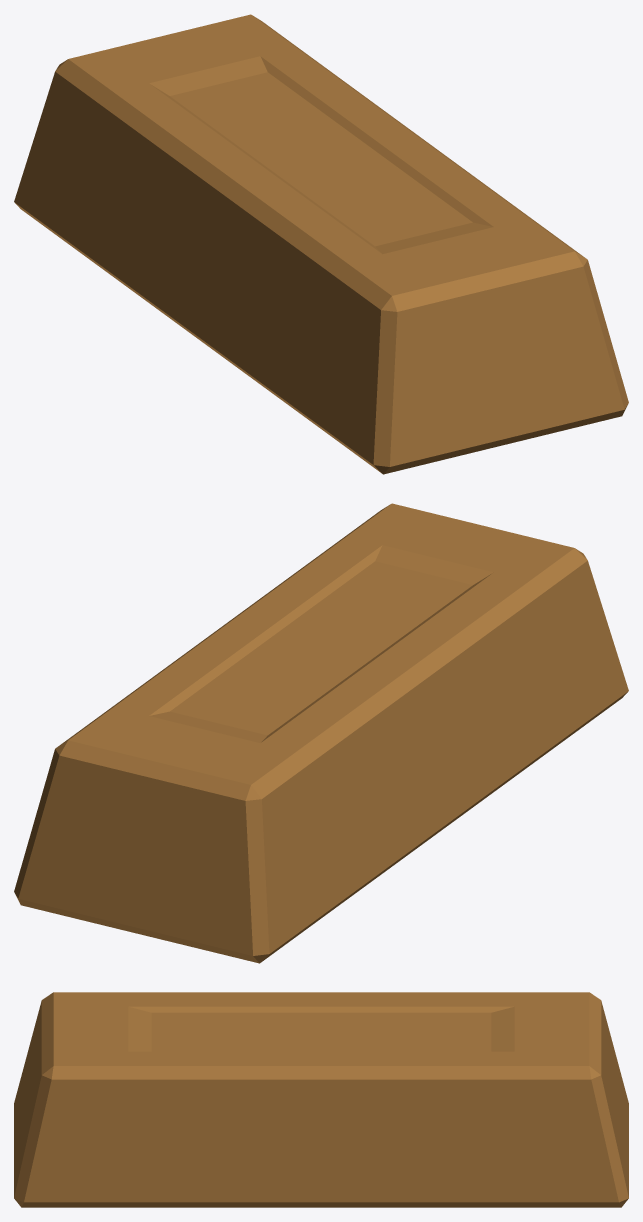
The model's file is resources_gold-brick.fbx.
The picture shows the model from 3 angles, top to bottom: view 1: azimuth 30°, elevation 25°; view 2: azimuth 150°, elevation 25°; view 3: azimuth 270°, elevation 25°; orthographic projection. The views are drawn at different scales.
Visible parts, largest first — view 1: resources_gold_brick; view 2: resources_gold_brick; view 3: resources_gold_brick.
Part boxes in pixels (x1,y1,x2,y2): resources_gold_brick: (14,14,628,474); resources_gold_brick: (14,503,628,963); resources_gold_brick: (14,992,628,1207).
Bounding box in the file's own units: 79.39 × 46.8 × 200.
